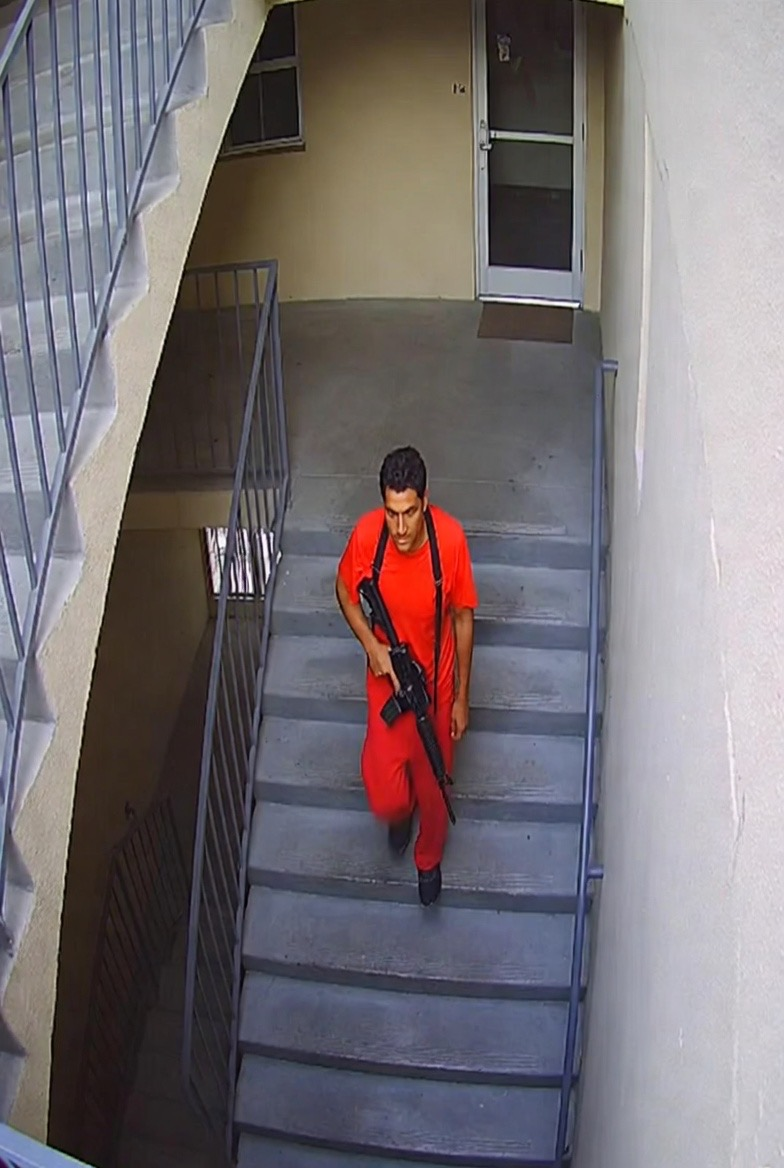person: (334, 445, 478, 909)
weapon: (357, 575, 457, 826)
